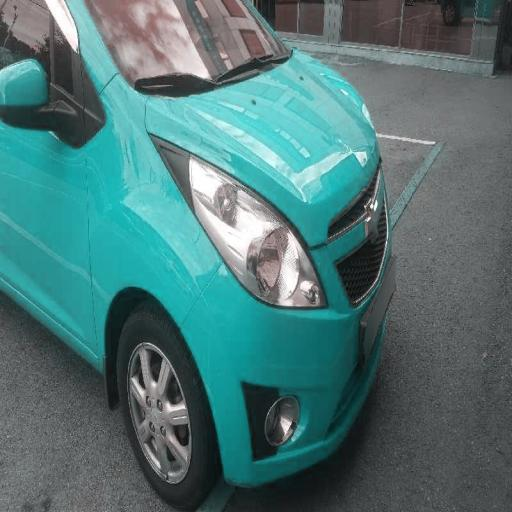scratch: (100, 48, 360, 314)
